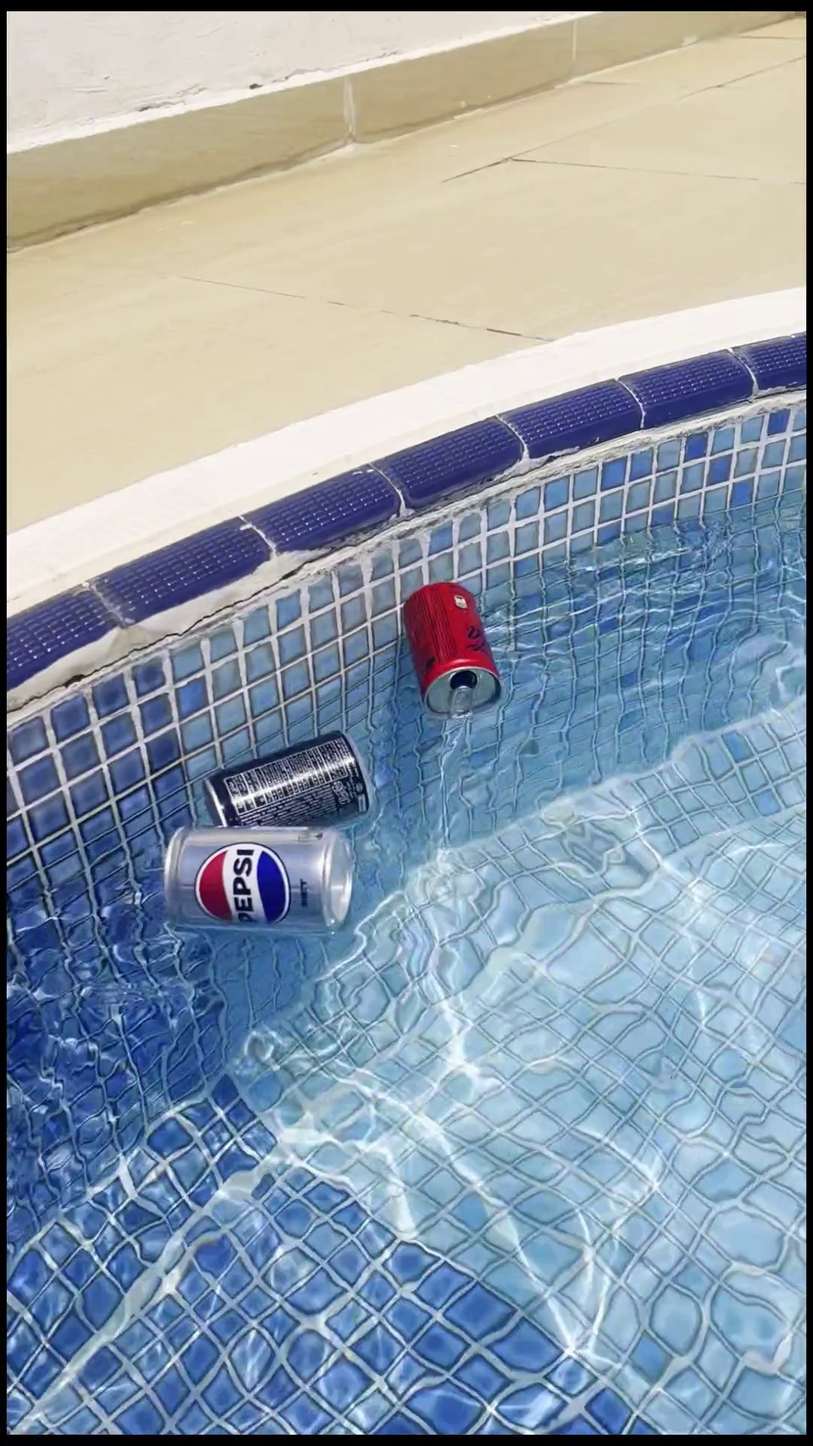debris: (155, 798, 350, 952), (200, 712, 370, 865), (394, 578, 503, 737)
